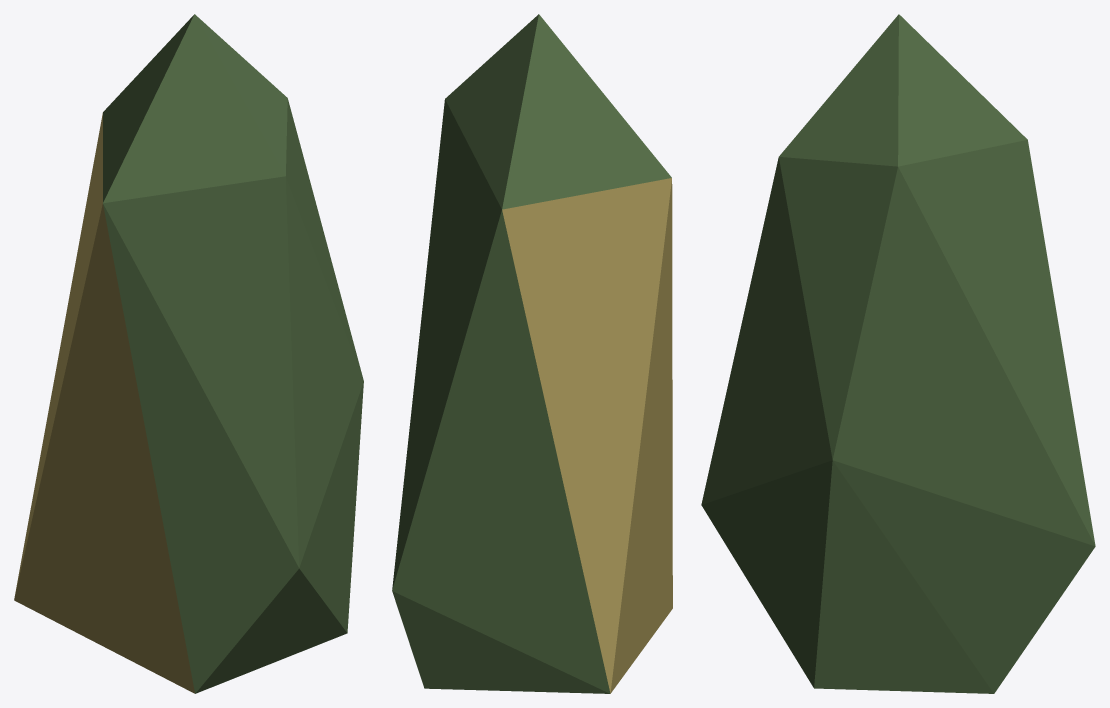
File: Corn_2.lod4.glb
The picture shows the model from 3 angles, left to right: view 1: azimuth 30°, elevation 25°; view 2: azimuth 150°, elevation 25°; view 3: azimuth 270°, elevation 25°; orthographic projection.
Parts seen in each view (by area): view 1: Corn_2; view 2: Corn_2; view 3: Corn_2.
Part boxes in pixels (x1,y1,x2,y2): Corn_2: [14, 14, 363, 693]; Corn_2: [392, 14, 672, 693]; Corn_2: [701, 14, 1095, 693].
Bounding box in the file's own units: 0.8424 × 1.98 × 1.09.
